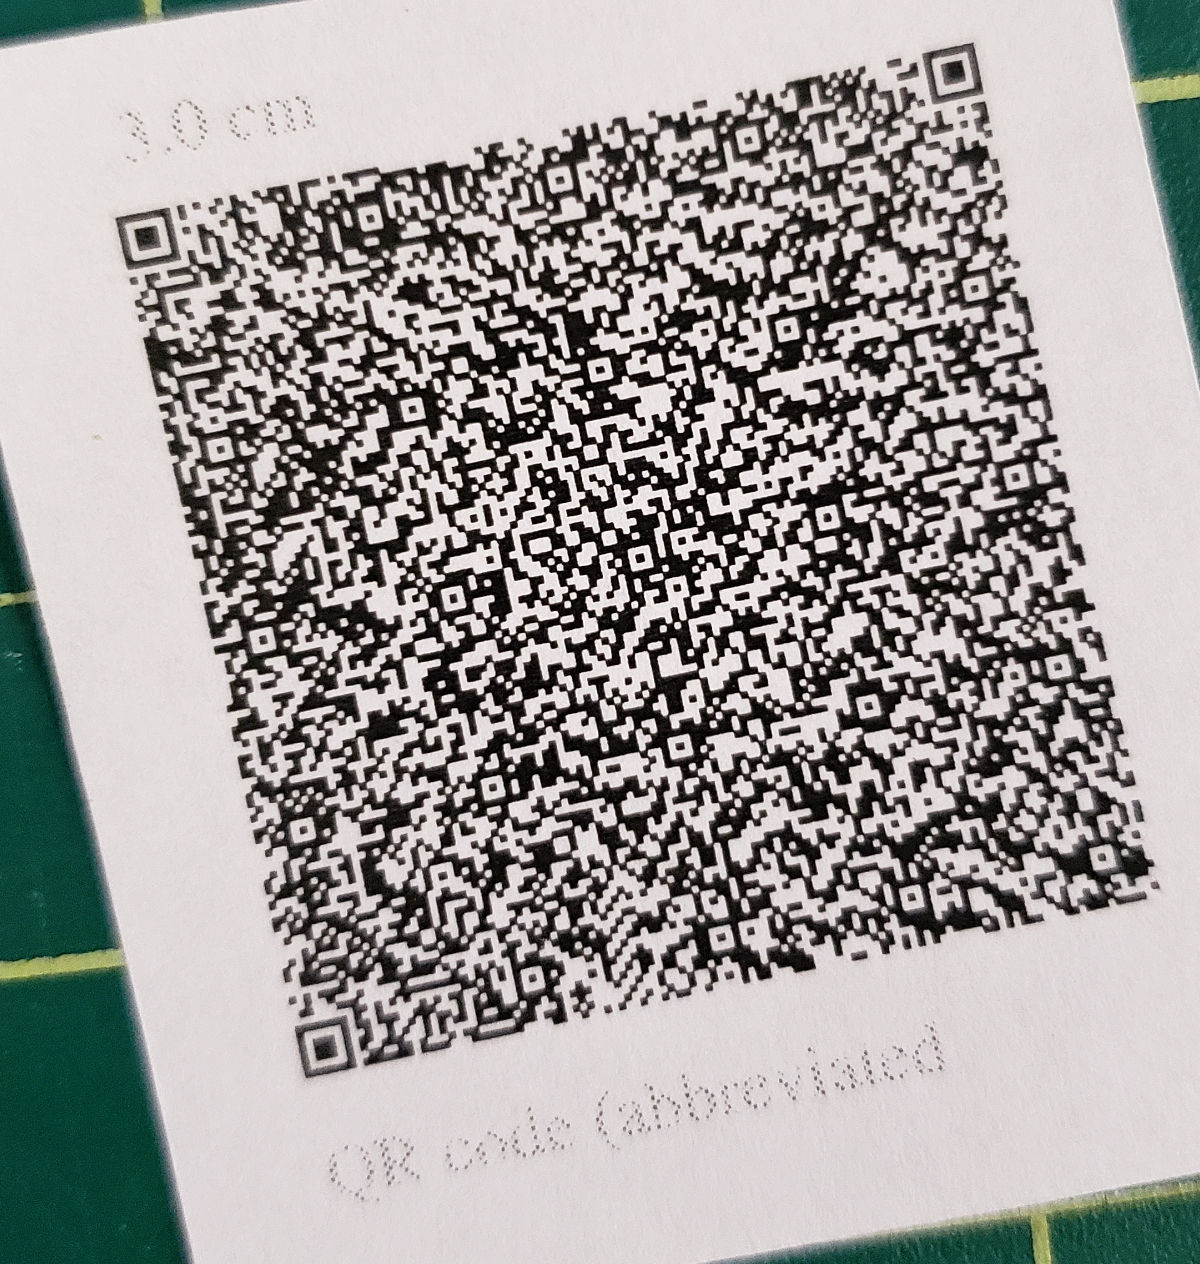QR_CODE: (73, 9, 1185, 1104)
